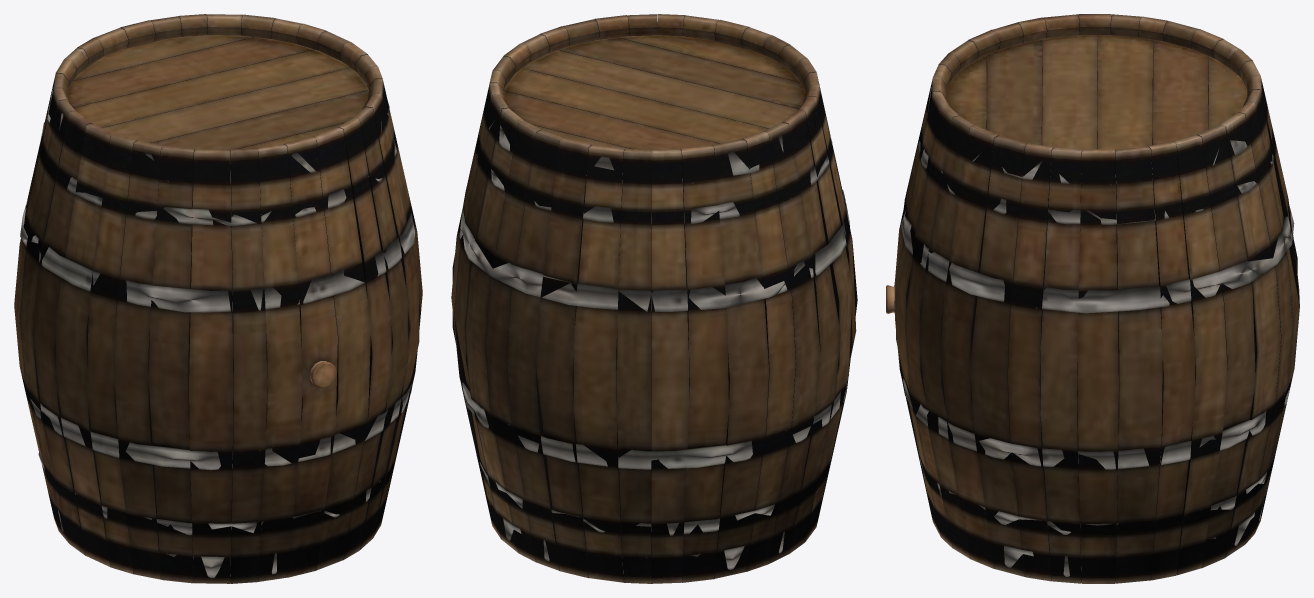
The model's file is wine_barrel_01.glb.
3 renders of one model, left to right at view 1: azimuth 30°, elevation 25°; view 2: azimuth 150°, elevation 25°; view 3: azimuth 270°, elevation 25°, orthographic.
Parts seen in each view (by area): view 1: wine_barrel_01, wine_barrel_01_Lid, wine_barrel_01_bung; view 2: wine_barrel_01, wine_barrel_01_Lid; view 3: wine_barrel_01, wine_barrel_01_Lid.
Part boxes in pixels (bbox=[...]): wine_barrel_01: bbox=[14, 14, 422, 583]; wine_barrel_01_Lid: bbox=[67, 35, 368, 149]; wine_barrel_01_bung: bbox=[310, 361, 336, 388]; wine_barrel_01: bbox=[451, 14, 857, 583]; wine_barrel_01_Lid: bbox=[503, 35, 805, 152]; wine_barrel_01: bbox=[894, 14, 1299, 583]; wine_barrel_01_Lid: bbox=[946, 35, 1247, 149].
Bounding box in the file's own units: 0.7419 × 0.8695 × 0.756.
1 material, 1 textured.
